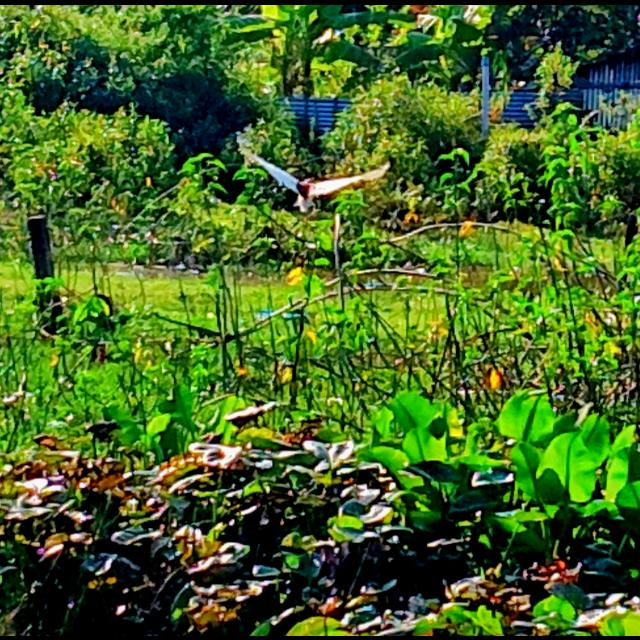egret: (235, 136, 393, 210)
